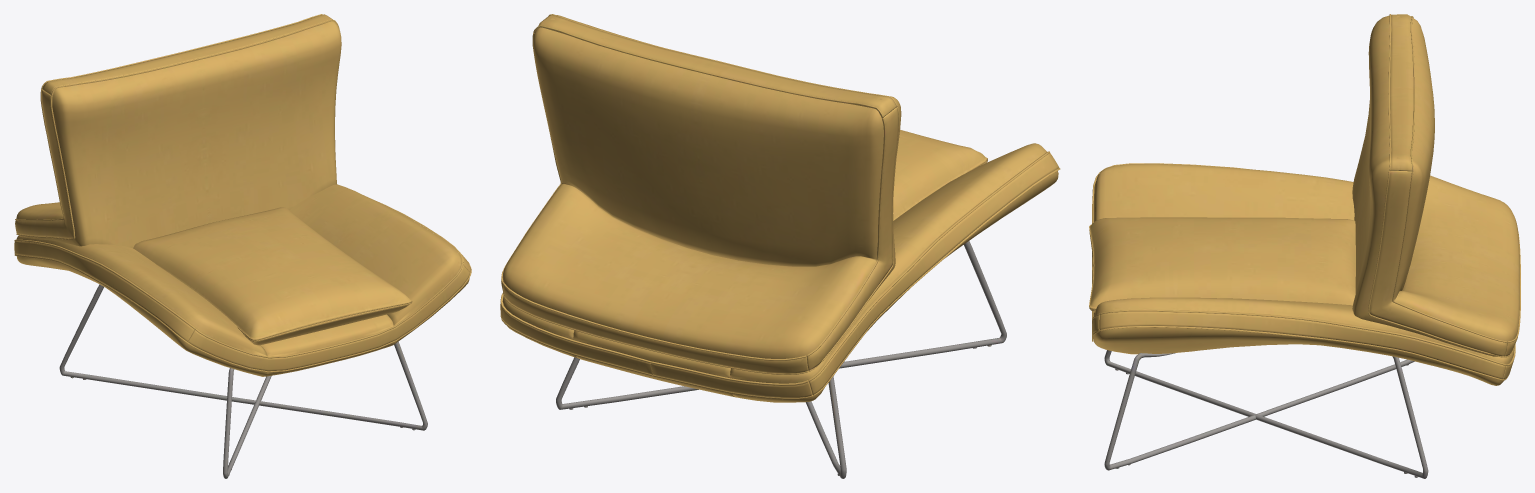
File: abo-B073G94FW8.glb
3 views of the same model, side by side, from view 1: azimuth 30°, elevation 25°; view 2: azimuth 150°, elevation 25°; view 3: azimuth 270°, elevation 25° (orthographic). The views are drawn at different scales.
Size of the model in its own units: 0.859 by 0.855 by 1.01.
1 material, 1 textured.
